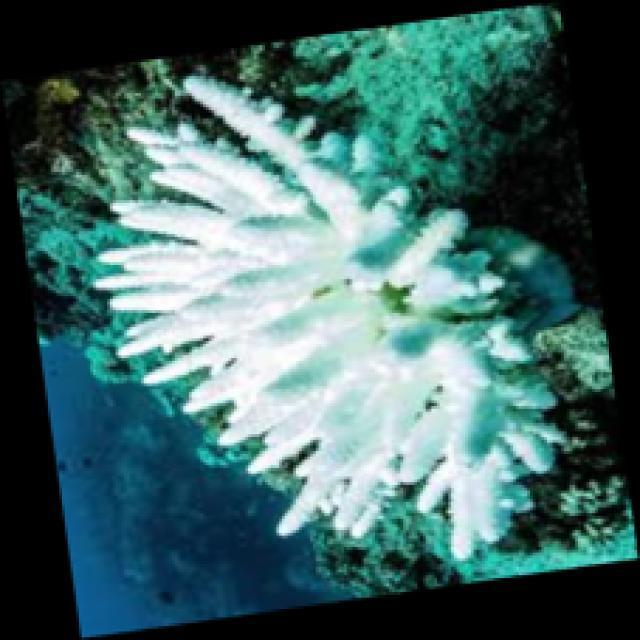Bleached: (95, 75, 573, 564)
